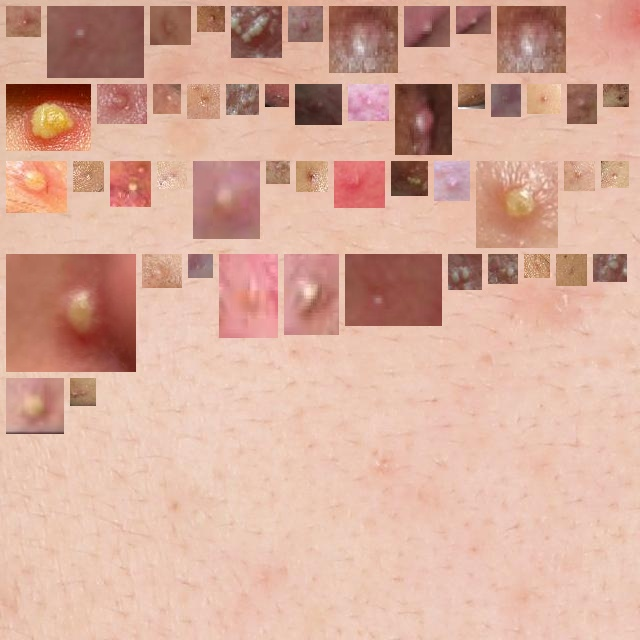pustule: (14, 262, 128, 364), (484, 169, 550, 240), (55, 14, 136, 70), (353, 262, 434, 318), (14, 92, 83, 143), (201, 169, 252, 231), (227, 262, 270, 330), (337, 14, 390, 65), (505, 14, 558, 65), (292, 262, 331, 327), (403, 92, 444, 147), (14, 386, 56, 433), (14, 169, 59, 205), (239, 14, 274, 50), (342, 169, 377, 200), (105, 92, 139, 116), (303, 92, 334, 117), (412, 14, 442, 39), (118, 169, 143, 199), (158, 14, 183, 37), (356, 92, 381, 113), (442, 169, 462, 193), (150, 262, 174, 280), (399, 169, 420, 188), (296, 14, 315, 34), (456, 262, 474, 282), (575, 92, 589, 116), (195, 92, 212, 111), (14, 14, 33, 29), (234, 92, 251, 107), (535, 92, 553, 106), (304, 169, 320, 184), (564, 262, 579, 278), (499, 92, 513, 109), (464, 14, 483, 26), (81, 169, 96, 184), (601, 262, 619, 274), (572, 169, 587, 183), (496, 262, 510, 276), (161, 92, 173, 106), (165, 169, 179, 181), (609, 169, 621, 180), (205, 14, 217, 24), (78, 386, 88, 398), (466, 92, 477, 101), (532, 262, 542, 270), (196, 262, 205, 270), (611, 92, 621, 99), (273, 92, 281, 99), (274, 169, 282, 176)
